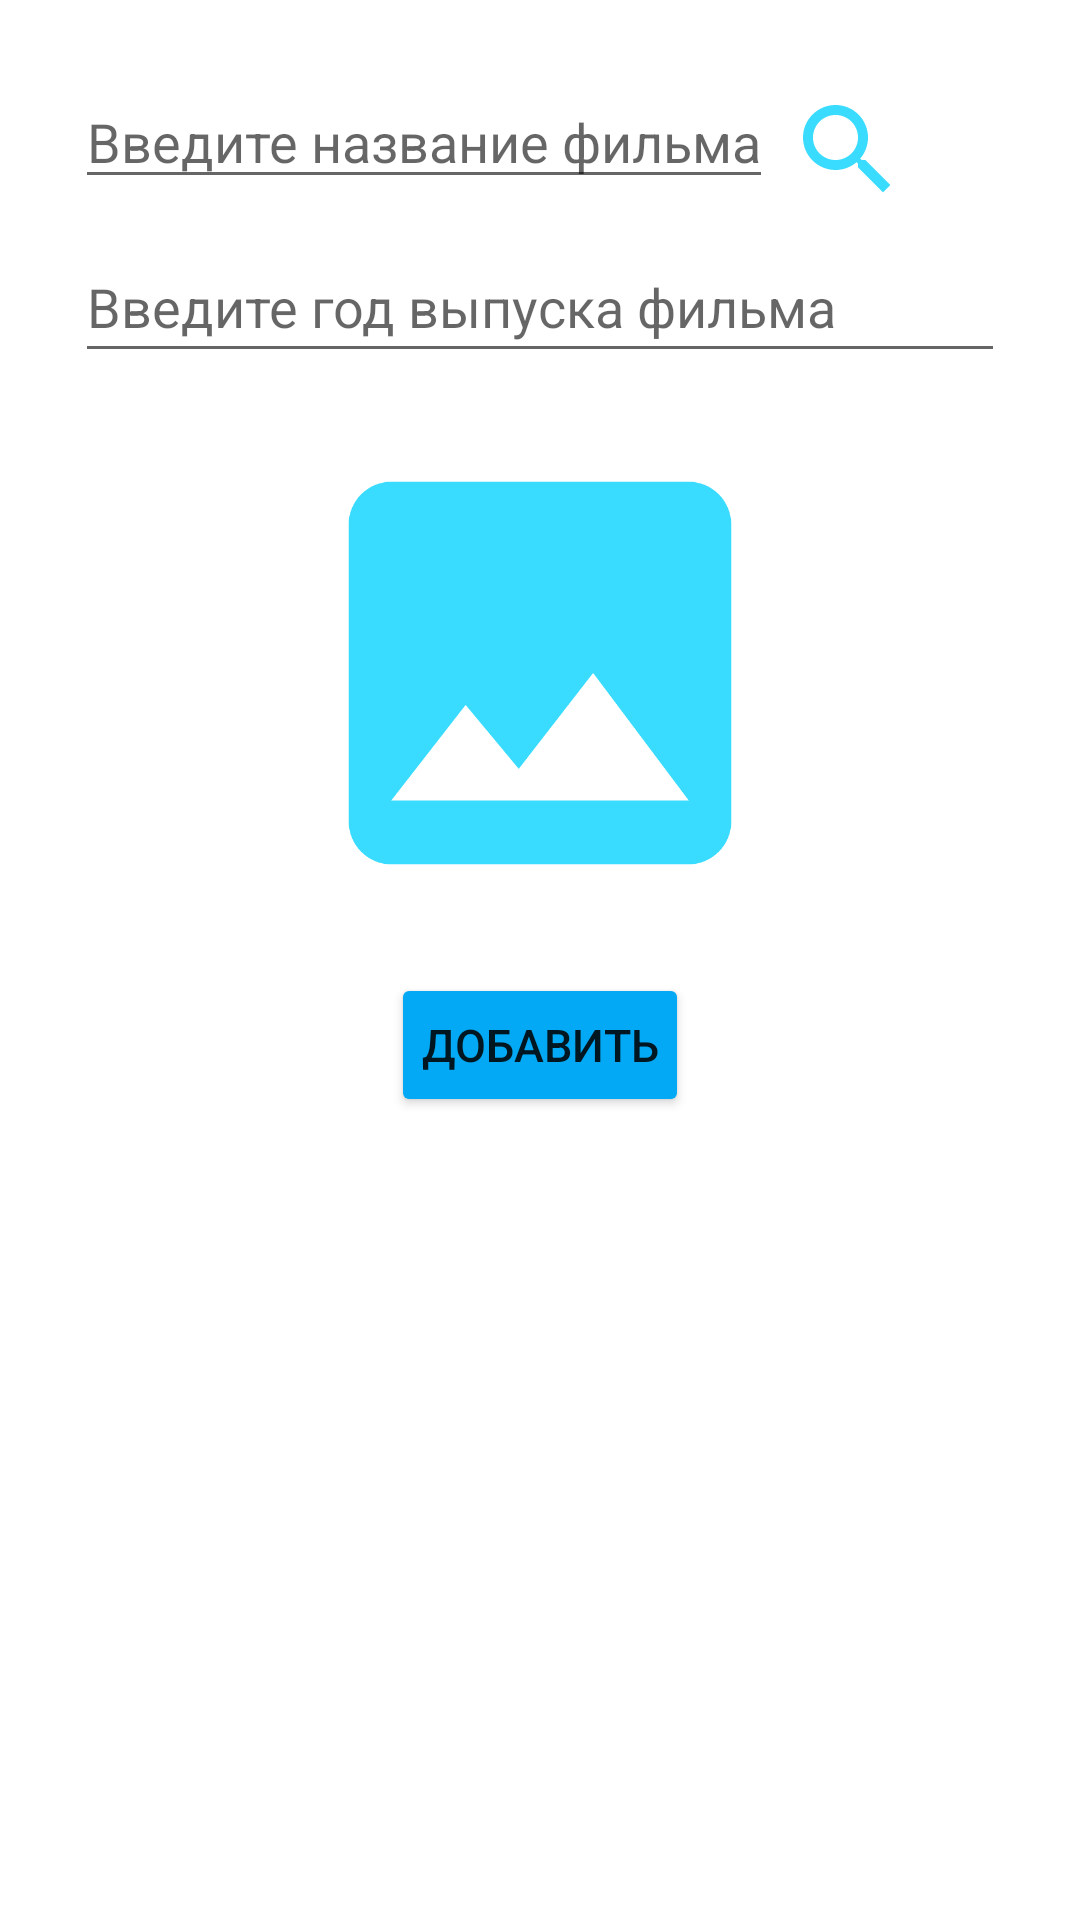

Icons on this 1080*1920 Android screen, each with the point to tap as (x=x, y=y):
search: (x=846, y=148)
